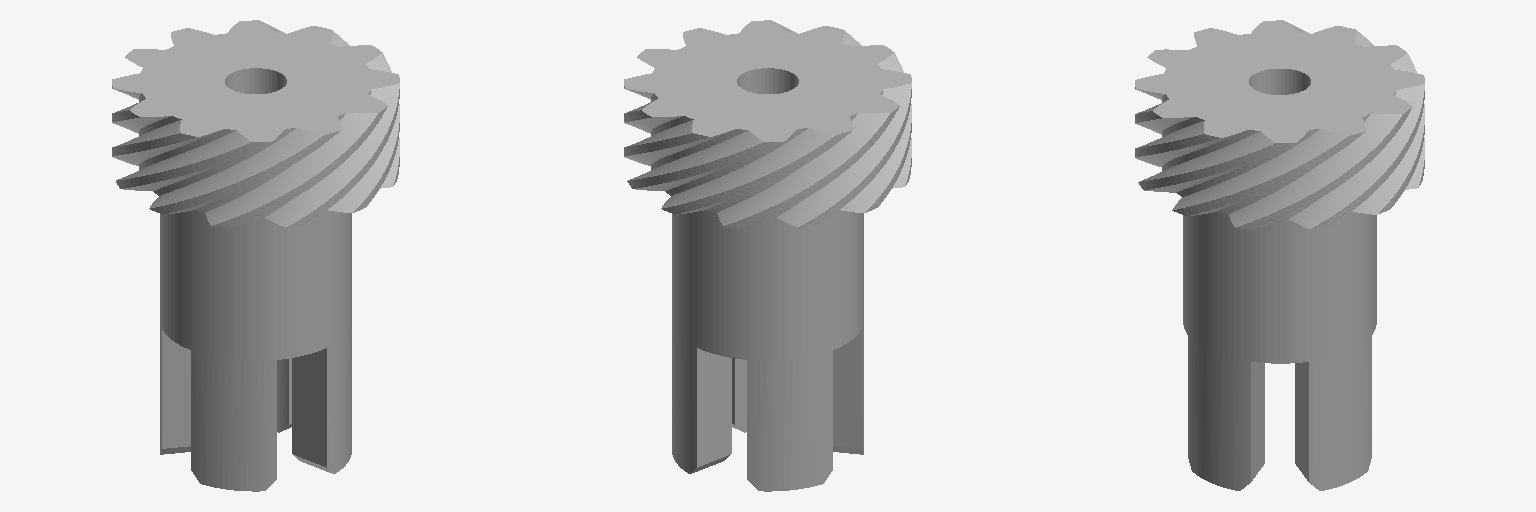
robot.urdf — root:
<?xml version='1.0' encoding='utf-8'?>
<robot name="root">
  <link name="link_001">
    <visual>
      <origin xyz="0 0 0" rpy="0 0 0" />
      <geometry>
        <mesh filename="2341ba14755ea1cdd95a737860b0646d919b3cbede79f2baf54e17632f89d58e_scale_000.stl" scale="1.0000E+00 1.0000E+00 1.0000E+00" />
      </geometry>
      <material name="">
        <color rgba="7.50E-01 7.50E-01 7.50E-01 1" />
      </material>
    </visual>
    <collision>
      <origin xyz="0 0 0" rpy="0 0 0" />
      <geometry>
        <mesh filename="2341ba14755ea1cdd95a737860b0646d919b3cbede79f2baf54e17632f89d58e_scale_000.stl" scale="1.0000E+00 1.0000E+00 1.0000E+00" />
      </geometry>
    </collision>
  </link>
</robot>

--- Facts derived from the render (not from the file) ---
3 views of the same robot in one strip: view 1: azimuth 30°, elevation 25°; view 2: azimuth 150°, elevation 25°; view 3: azimuth 270°, elevation 25° (orthographic).
Model root with 1 links and 0 joints (none), rooted at link_001, posed every joint at zero.
Visible links, largest first — view 1: link_001; view 2: link_001; view 3: link_001.
Boxes of the visible links, left/top/right/bottom form: link_001: left=112, top=20, right=399, bottom=491; link_001: left=624, top=20, right=911, bottom=491; link_001: left=1135, top=20, right=1424, bottom=490.
Bounding box of the posed robot: 0.0847 × 0.0847 × 0.12 m (x, y, z).
Meshes: 1 distinct files referenced, 1 mesh visuals loaded (1 binary STL).
